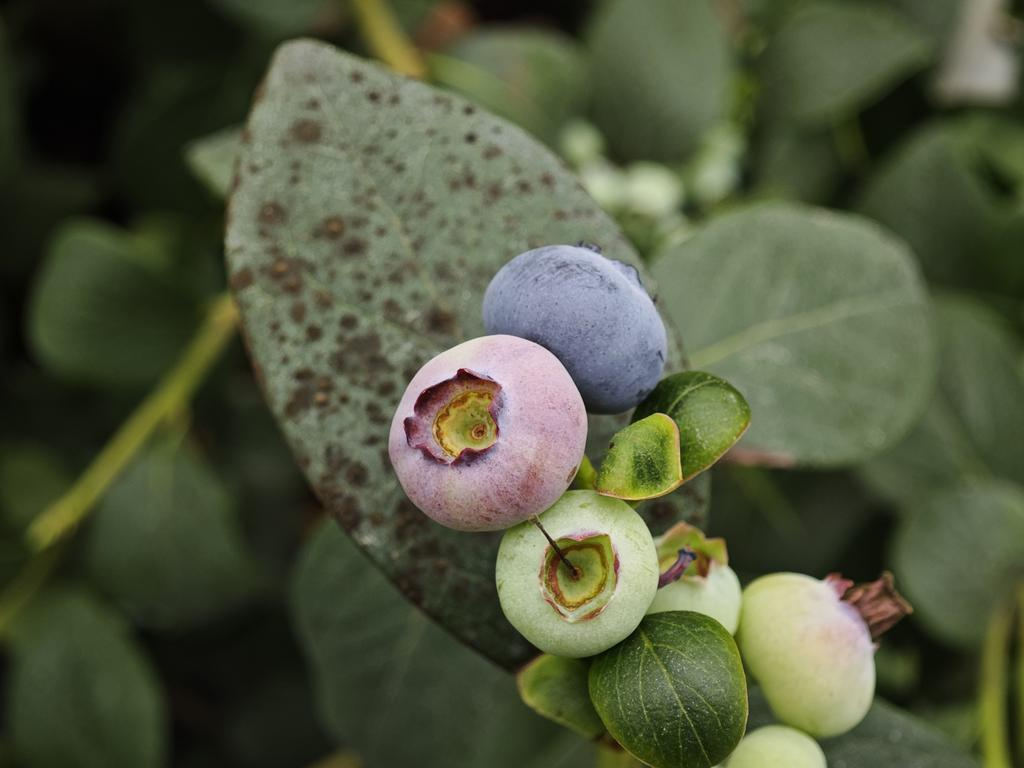RipeBlueBerry: (482, 239, 670, 410)
Semi-RipeBlueBerry: (385, 330, 588, 535)
UnripeBlueBerry: (492, 485, 662, 663)
